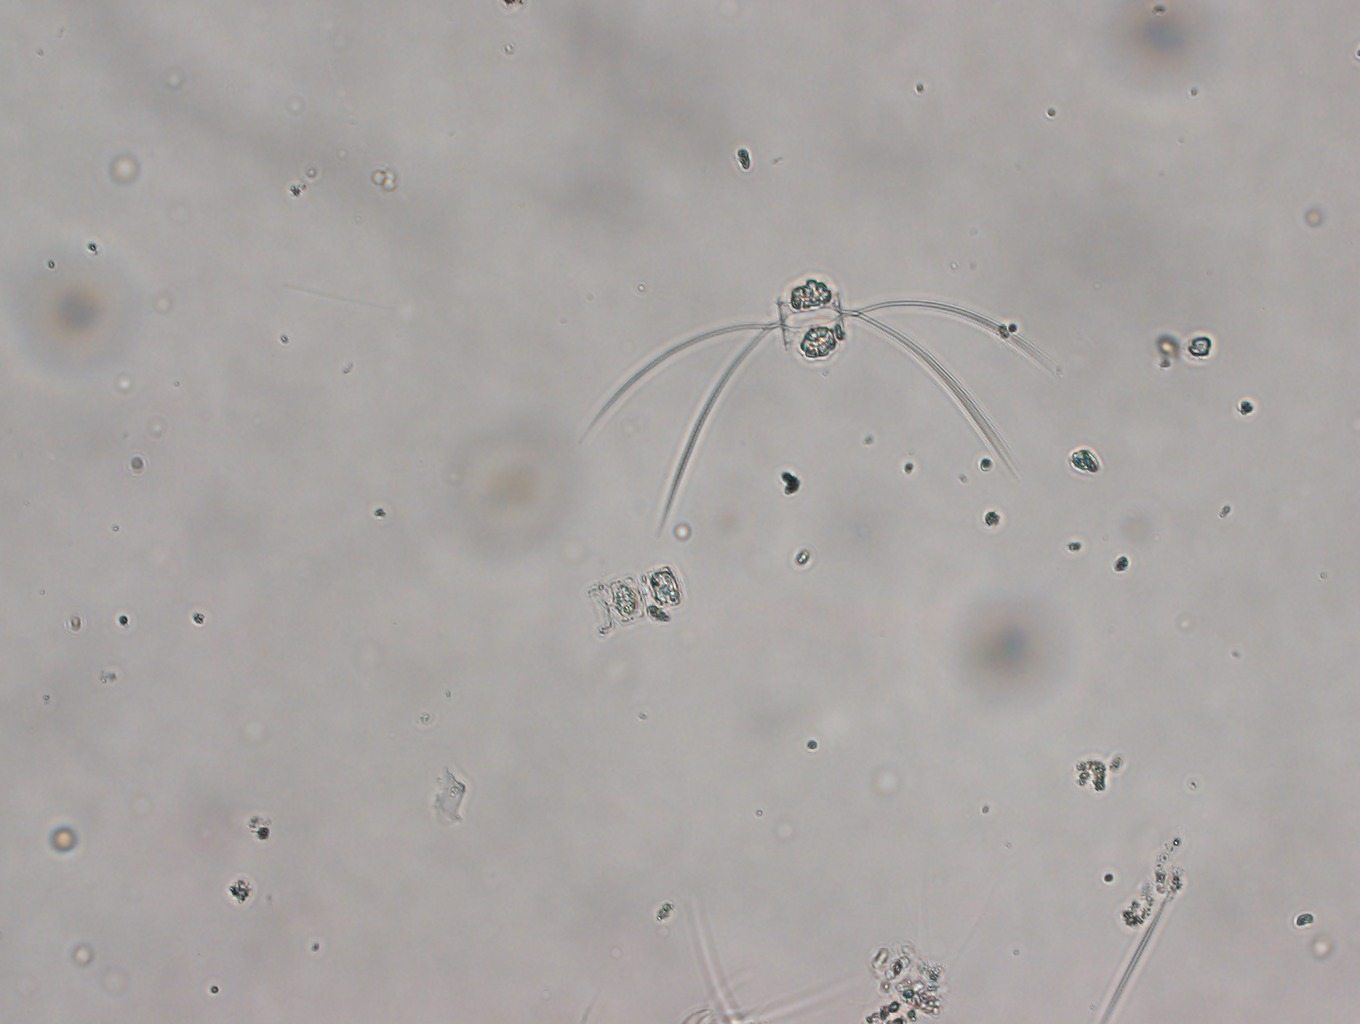chaetoceros: (574, 268, 1048, 543)
